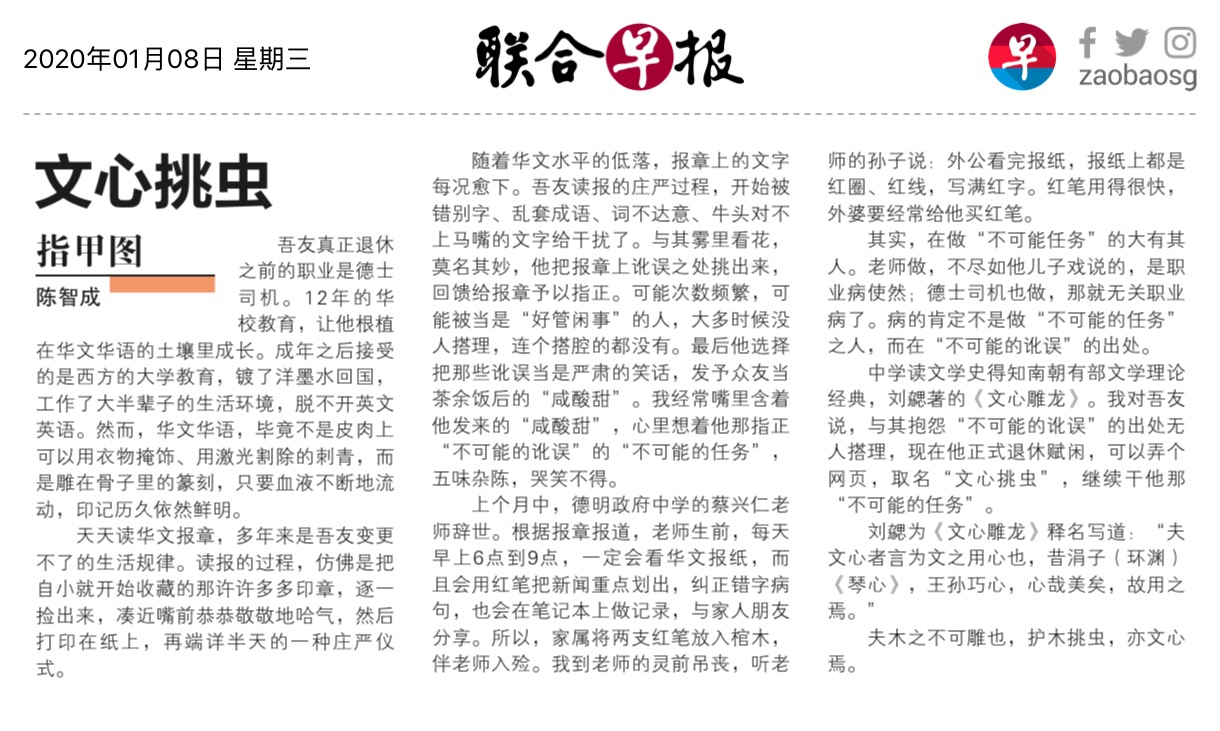heading: (32, 147, 282, 214)
